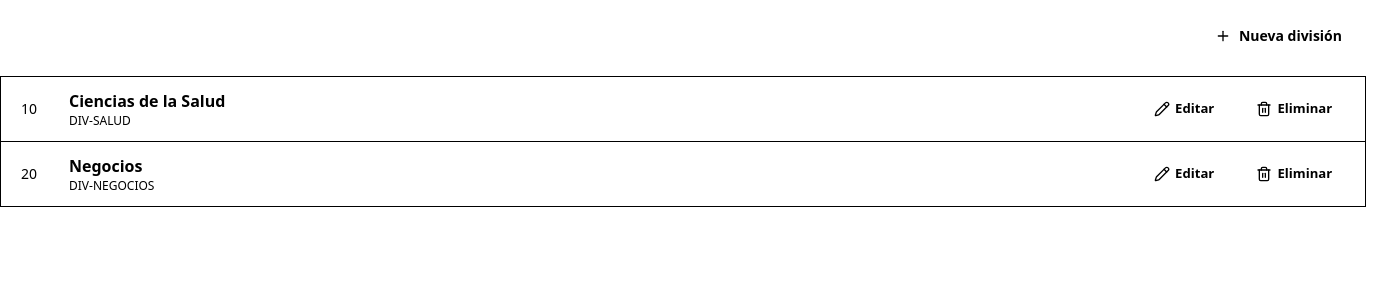
Test: a failed preview opens no confirmation
What coordinates should you click on to do the following:
click the button with aria-label "Eliminar Negocios"
I would click on:
 (1294, 174)
Its box is [1243,154,1345,194].
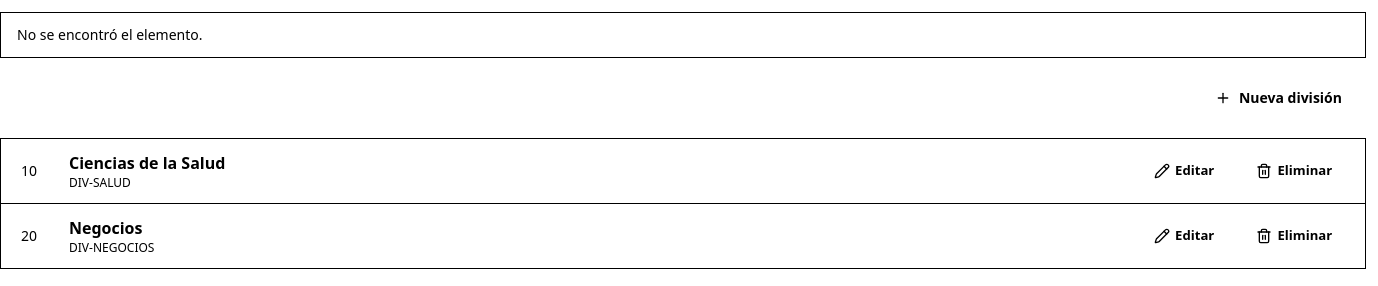
Expected: the text "No se encontró el elemento." is shown, [0,12,1366,58]
